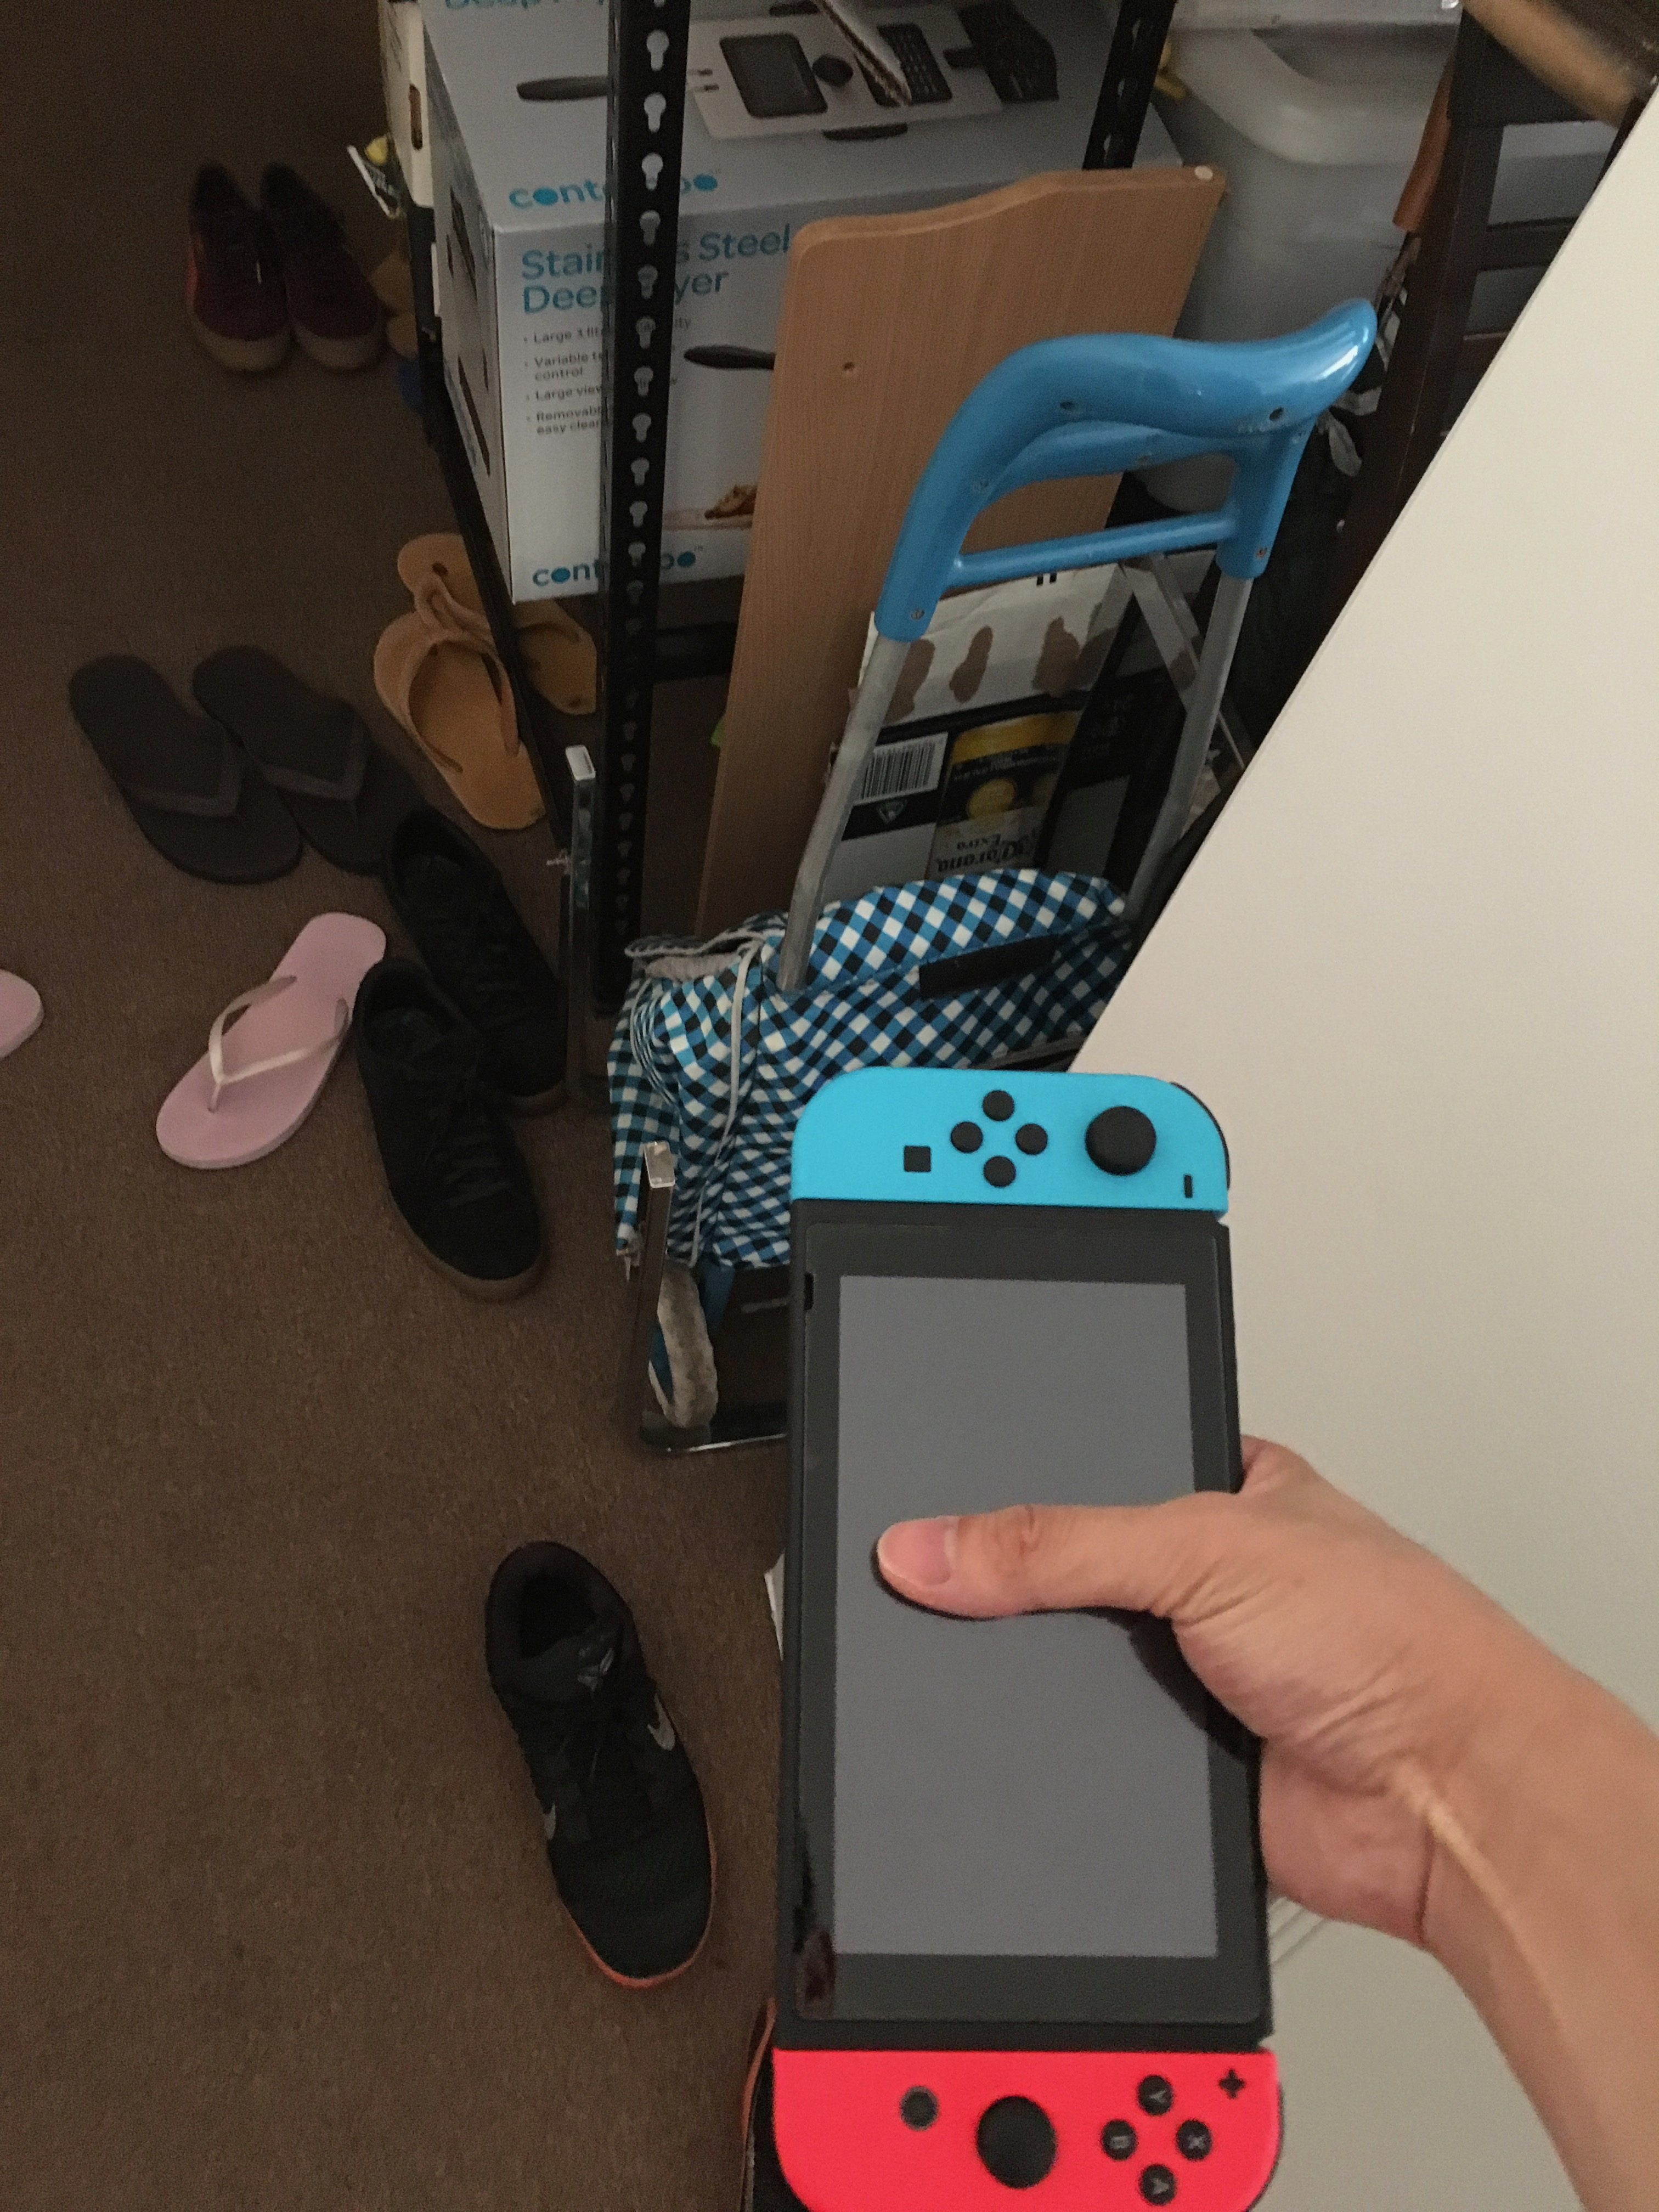NintendoSwitch: (734, 1057, 1305, 2212)
